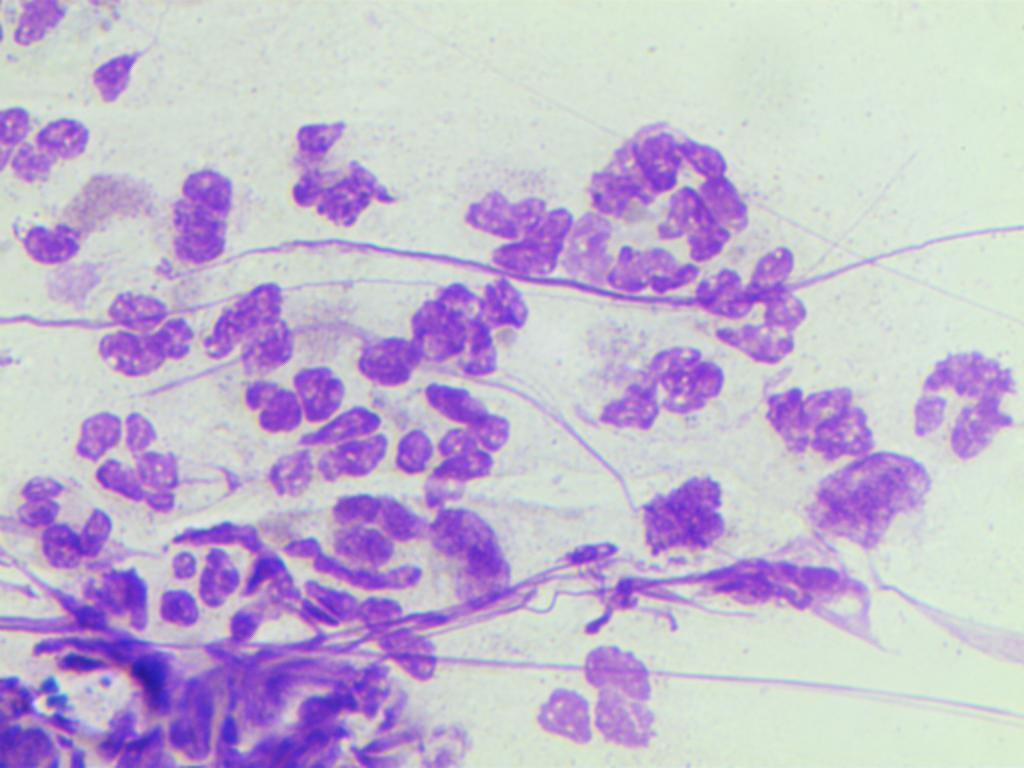artifact: (0, 630, 424, 768)
epithelial: (163, 165, 245, 260)
neutrophil: (345, 272, 550, 380), (273, 98, 398, 252), (256, 485, 438, 590), (687, 238, 820, 376), (577, 112, 746, 214), (457, 164, 584, 294), (745, 366, 888, 480), (83, 274, 212, 396), (5, 452, 131, 576), (583, 332, 730, 438), (905, 334, 1024, 464), (297, 579, 441, 684), (414, 481, 529, 608), (527, 648, 668, 750), (67, 405, 193, 519), (571, 201, 700, 310), (195, 278, 316, 382), (259, 405, 387, 499), (146, 541, 260, 635), (419, 374, 516, 484), (227, 356, 353, 434), (2, 101, 92, 183), (8, 201, 112, 271)
